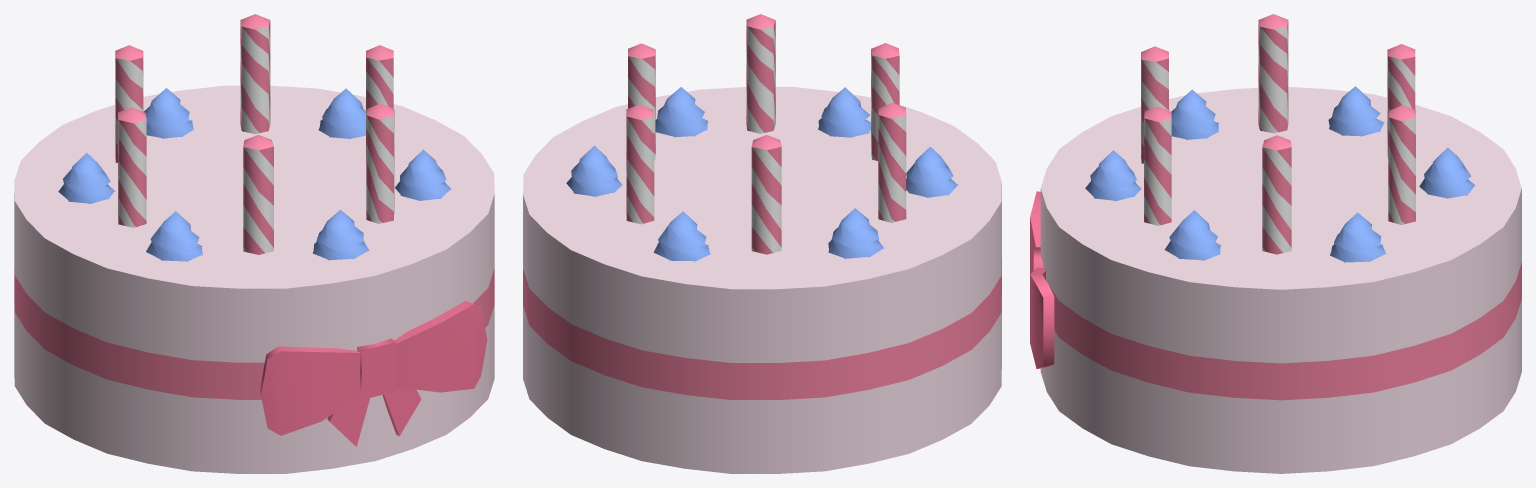
Rendered from cake.fbx.
3 renders of one model, left to right at view 1: azimuth 30°, elevation 25°; view 2: azimuth 150°, elevation 25°; view 3: azimuth 270°, elevation 25°, orthographic.
Parts seen in each view (by area): view 1: cake; view 2: cake; view 3: cake.
Boxes of the visible parts, <box> form: cake: <box>14,14,494,473</box>; cake: <box>523,14,1001,473</box>; cake: <box>1030,14,1521,473</box>.
Bounding box in the file's own units: 2.01 × 1.37 × 2.06.
